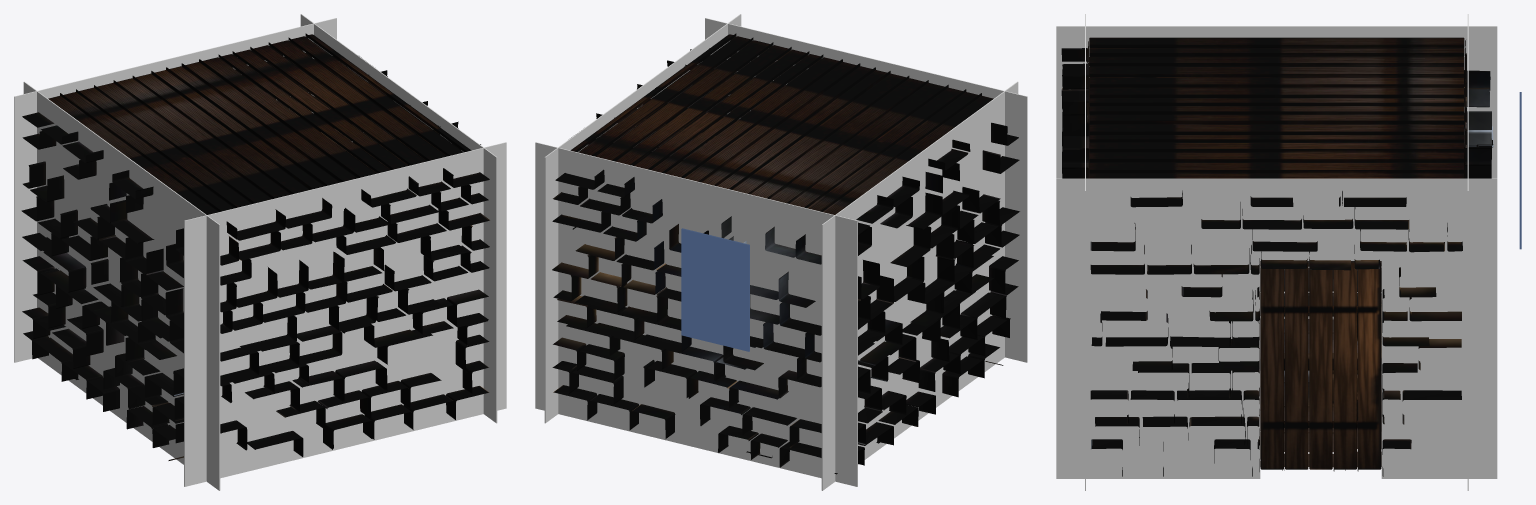
File: cell.glb
The picture shows the model from 3 angles, left to right: view 1: azimuth 30°, elevation 25°; view 2: azimuth 150°, elevation 25°; view 3: azimuth 270°, elevation 25°; orthographic projection. The views are drawn at different scales.
Visible parts, largest first — view 1: flat_mortar_walls, walls, ceiling; view 2: flat_mortar_walls, walls, ceiling, emit_sky; view 3: flat_mortar_walls, ceiling, walls, props, floor.
Part boxes in pixels (x1,y1,x2,y2): flat_mortar_walls: [14, 14, 506, 490]; walls: [21, 36, 489, 460]; ceiling: [48, 33, 471, 214]; flat_mortar_walls: [535, 14, 1027, 490]; walls: [552, 36, 1019, 467]; ceiling: [570, 33, 993, 214]; emit_sky: [681, 228, 749, 351]; flat_mortar_walls: [1056, 14, 1497, 490]; ceiling: [1089, 37, 1464, 178]; walls: [1061, 40, 1493, 476]; props: [1260, 145, 1477, 471]; floor: [1260, 318, 1381, 470].
Size of the model in its own units: 3.8 by 3 by 4.22.
11 materials, 7 textured.
